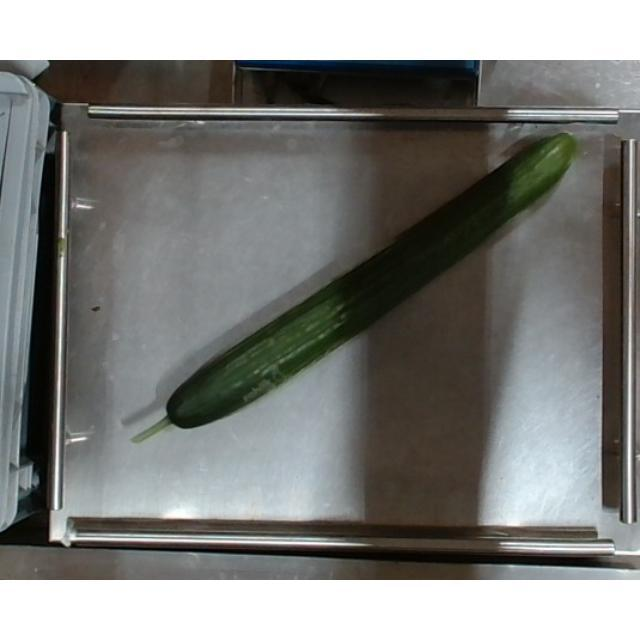cucumber: (134, 133, 576, 445)
